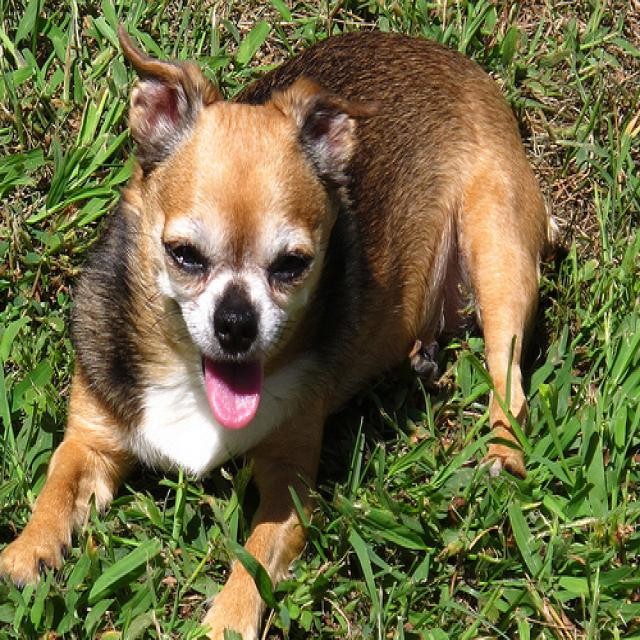dog-chihuahua: (1, 14, 580, 637)
